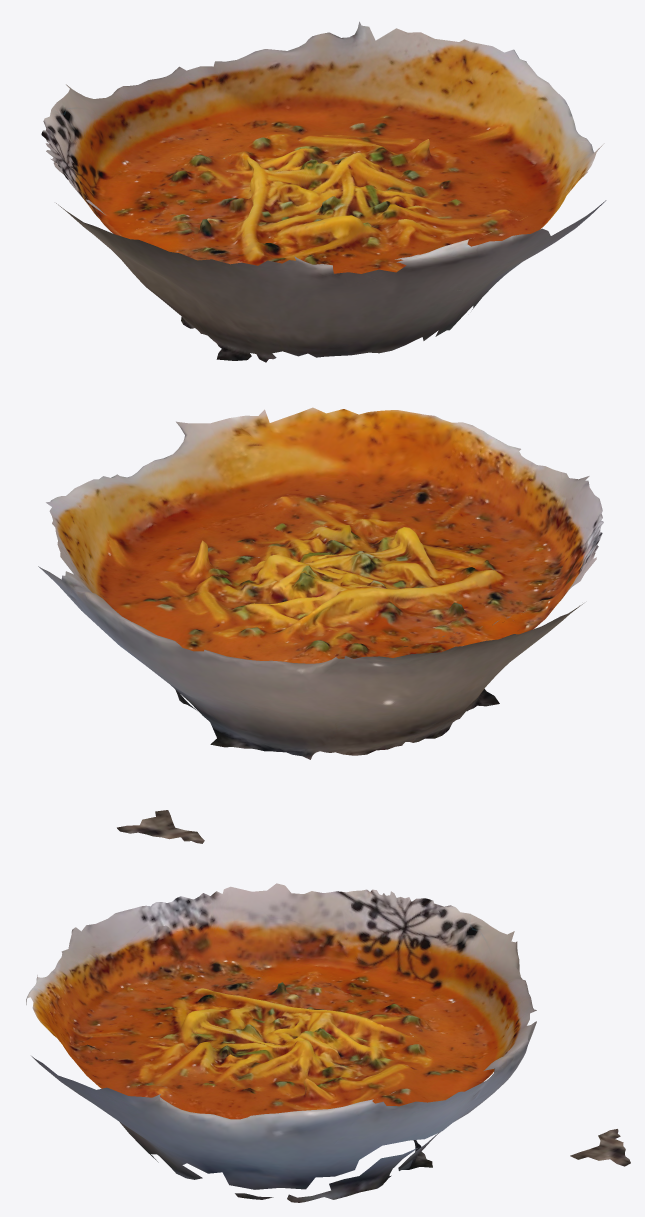
The model's file is Chourba Fixed.glb.
The picture shows the model from 3 angles, top to bottom: view 1: azimuth 30°, elevation 25°; view 2: azimuth 150°, elevation 25°; view 3: azimuth 270°, elevation 25°; orthographic projection. The views are drawn at different scales.
Visible parts, largest first — view 1: Object_4; view 2: Object_4; view 3: Object_4.
Boxes of the visible parts, x1,y1,x2,y2 form: Object_4: (41, 21, 606, 362); Object_4: (38, 407, 603, 843); Object_4: (26, 883, 630, 1202).
Size of the model in its own units: 0.7431 by 0.2437 by 0.8433.
1 material, 1 textured.
